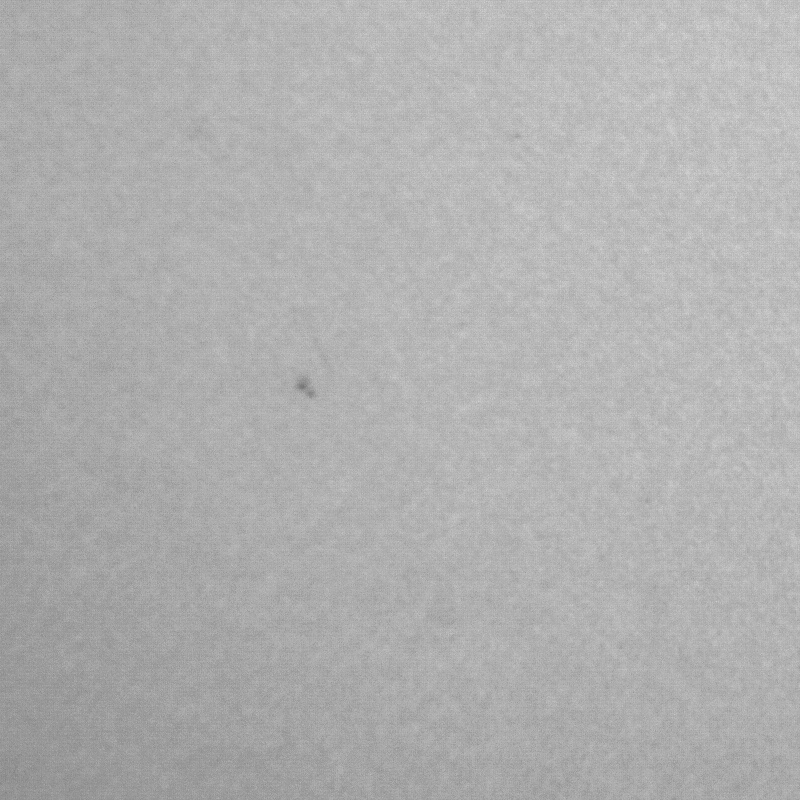defect: (291, 366, 323, 407)
